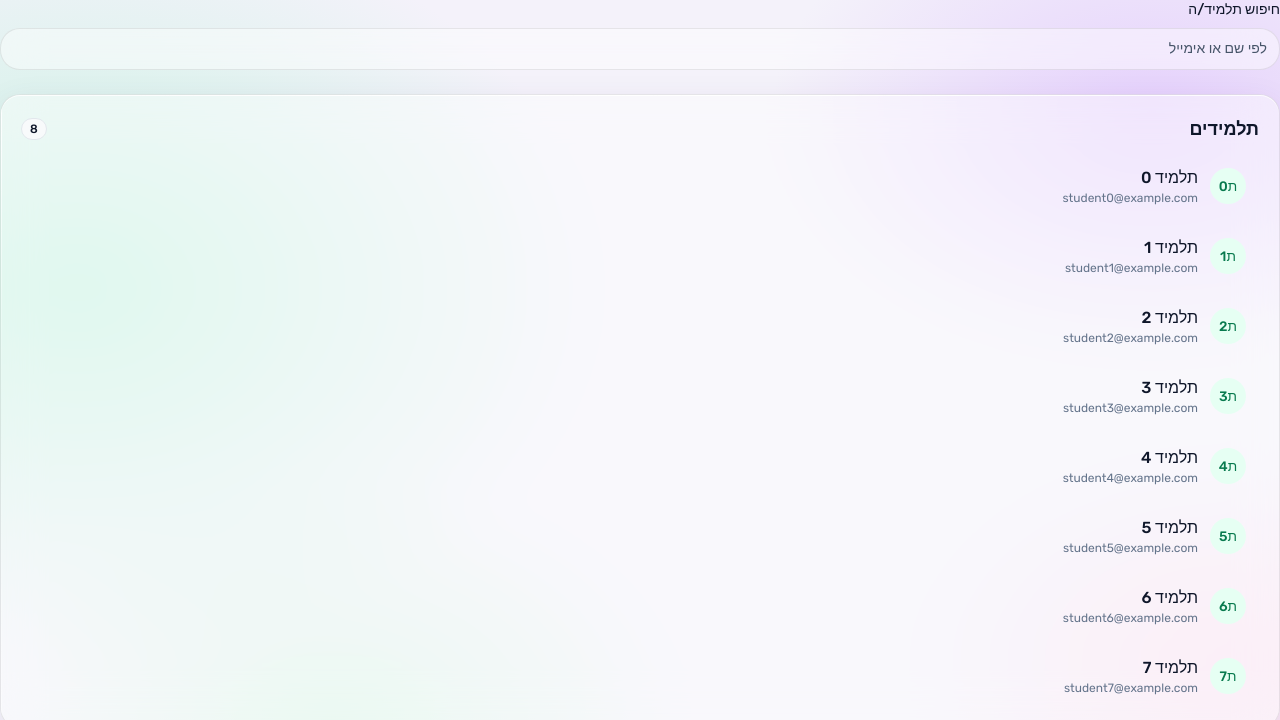
Test case: RosterSection › searches the roster by name once it is long enough to need it
Type "תלמיד 3" into the field labelled "חיפוש תלמיד/ה" at [640, 49], box [0,28,1279,70]
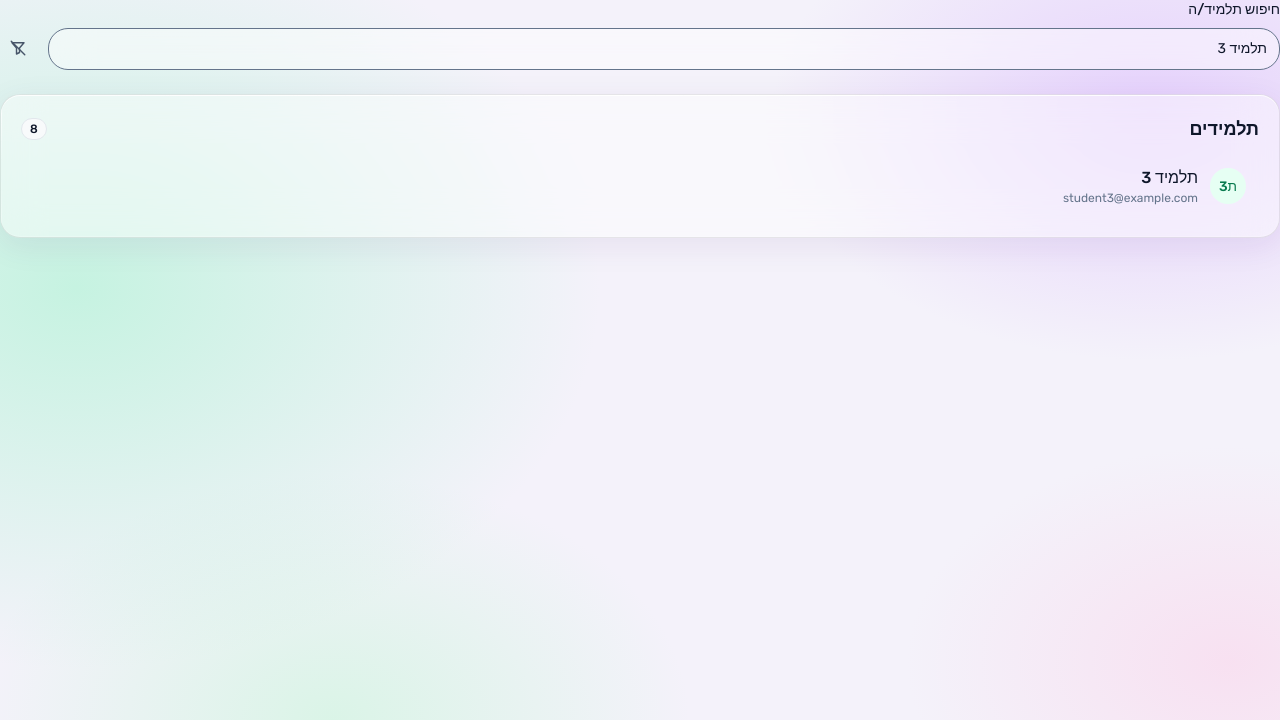
Expected: the link "ת3 תלמיד 3 student3@example.com" is shown, [1063,168,1246,205]
Now the link "תלמיד 4" is gone
